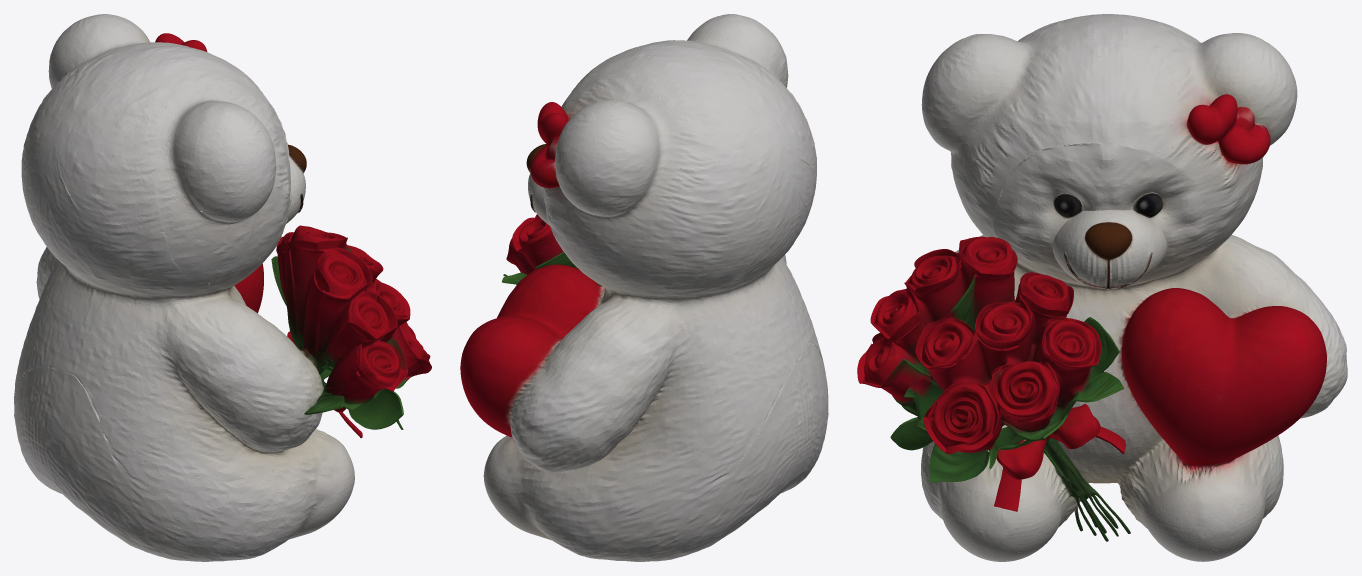
File: peluche.glb
3 renders of one model, left to right at view 1: azimuth 30°, elevation 25°; view 2: azimuth 150°, elevation 25°; view 3: azimuth 270°, elevation 25°, orthographic. The views are drawn at different scales.
Visible parts, largest first — view 1: tripo_node_460183ea-ef18-4735-8480-cd9c4fe40b88; view 2: tripo_node_460183ea-ef18-4735-8480-cd9c4fe40b88; view 3: tripo_node_460183ea-ef18-4735-8480-cd9c4fe40b88.
Boxes of the visible parts, x1,y1,x2,y2 form: tripo_node_460183ea-ef18-4735-8480-cd9c4fe40b88: (14, 14, 431, 561); tripo_node_460183ea-ef18-4735-8480-cd9c4fe40b88: (460, 14, 828, 561); tripo_node_460183ea-ef18-4735-8480-cd9c4fe40b88: (857, 14, 1347, 561).
Bounding box in the file's own units: 0.7475 × 0.9987 × 0.9136.
Materials: 1 (1 with a texture image).
